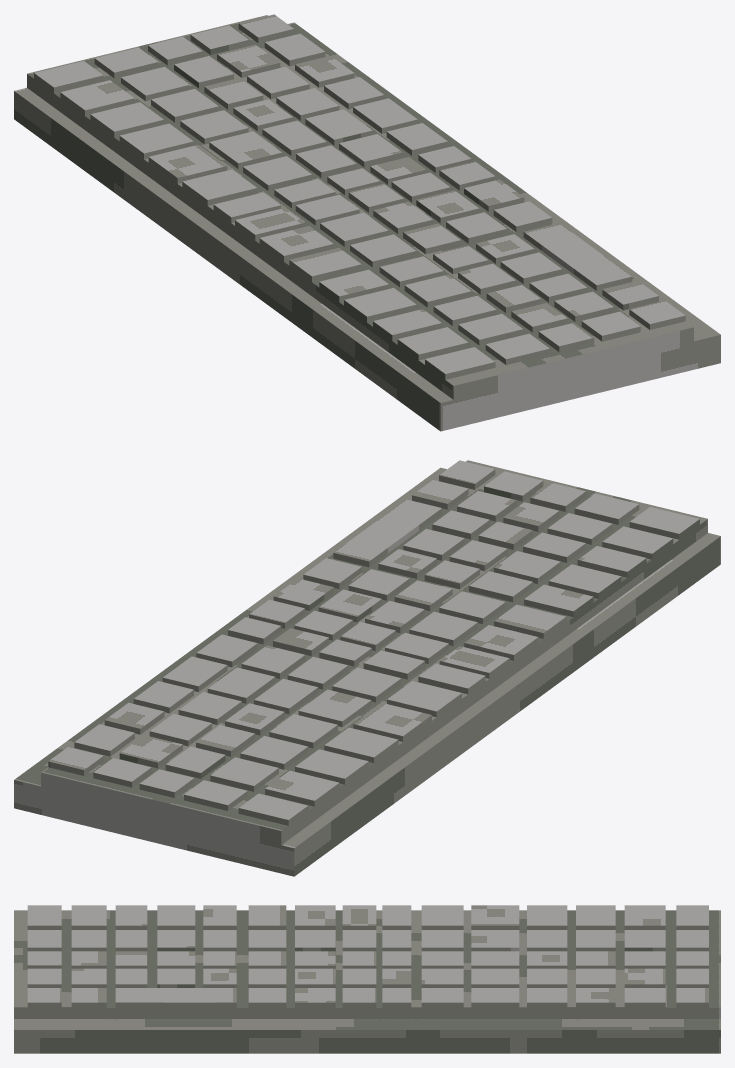
Rendered from Keybord_model.fbx.
3 views of the same model, one above another, from view 1: azimuth 30°, elevation 25°; view 2: azimuth 150°, elevation 25°; view 3: azimuth 270°, elevation 25° (orthographic). The views are drawn at different scales.
Parts seen in each view (by area): view 1: Cube.003; view 2: Cube.003; view 3: Cube.003.
Part boxes in pixels (x1,y1,x2,y2): Cube.003: (14, 14, 720, 431); Cube.003: (14, 460, 720, 876); Cube.003: (14, 905, 720, 1053).
Bounding box in the file's own units: 134 × 22.08 × 353.
1 material, 1 textured.
